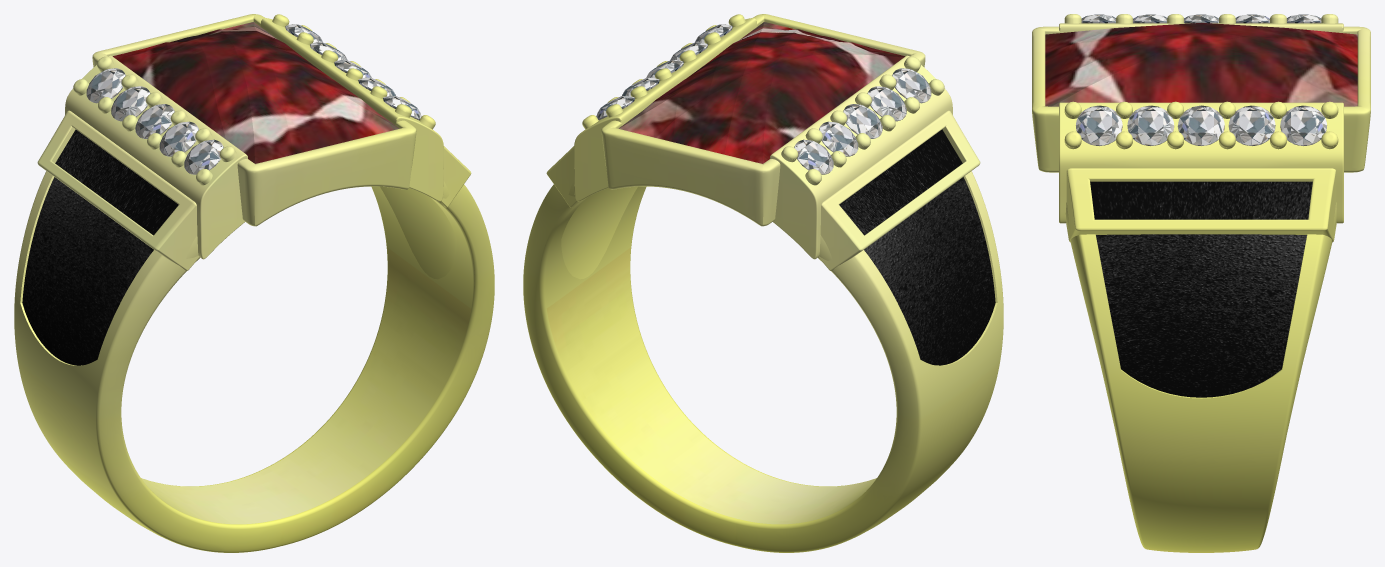
Rendered from ring22.glb.
The picture shows the model from 3 angles, left to right: view 1: azimuth 30°, elevation 25°; view 2: azimuth 150°, elevation 25°; view 3: azimuth 270°, elevation 25°; orthographic projection. The views are drawn at different scales.
Visible parts, largest first — view 1: body, core, black, diamond; view 2: body, core, black, diamond; view 3: body, black, core, diamond.
Part boxes in pixels (<box>): body: <box>14,14,494,552</box>; core: <box>113,22,399,163</box>; black: <box>22,129,178,365</box>; diamond: <box>86,24,421,174</box>; body: <box>523,14,1003,552</box>; core: <box>618,22,904,163</box>; black: <box>839,129,995,365</box>; diamond: <box>596,24,931,174</box>; body: <box>1032,14,1370,552</box>; black: <box>1090,181,1312,397</box>; core: <box>1045,23,1357,106</box>; diamond: <box>1076,14,1326,145</box>.
Bounding box in the file's own units: 21.78 × 24.34 × 15.2.
Materials: 4 (4 with a texture image).
